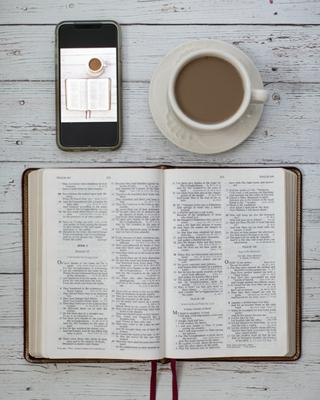Mobile Phone: (53, 18, 123, 151)
